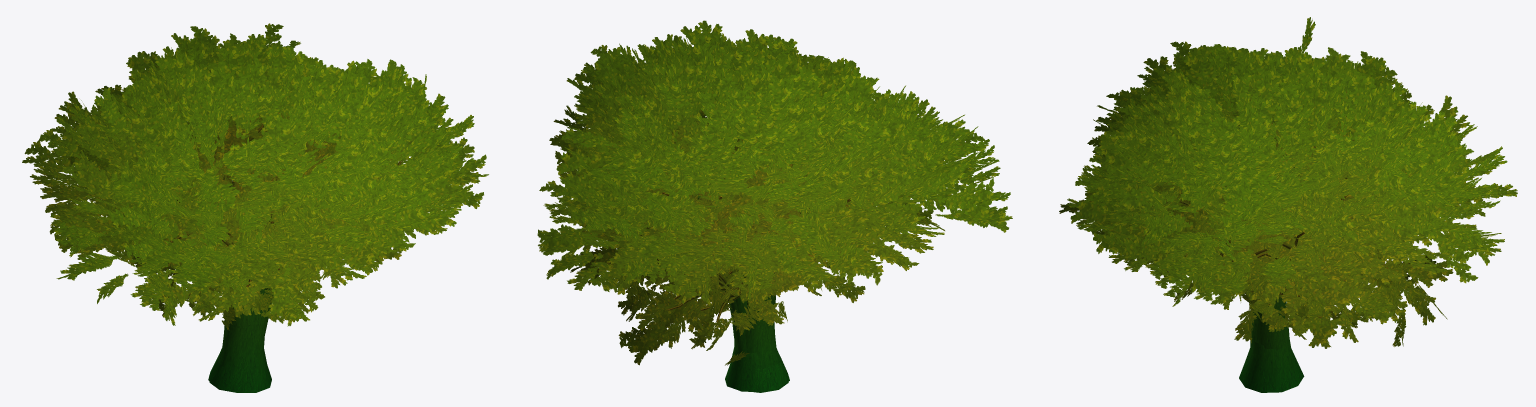
The model's file is dub.glb.
The picture shows the model from 3 angles, left to right: view 1: azimuth 30°, elevation 25°; view 2: azimuth 150°, elevation 25°; view 3: azimuth 270°, elevation 25°; orthographic projection. The views are drawn at different scales.
Parts seen in each view (by area): view 1: dub_01_LOD0, dub_03_LOD0, dub_02_LOD0; view 2: dub_01_LOD0, dub_03_LOD0, dub_02_LOD0; view 3: dub_03_LOD0, dub_01_LOD0, dub_02_LOD0.
Part boxes in pixels (x1,y1,x2,y2): dub_01_LOD0: (22,26,460,392); dub_03_LOD0: (72,34,488,382); dub_02_LOD0: (70,23,460,392); dub_01_LOD0: (537,38,1012,392); dub_03_LOD0: (538,20,977,392); dub_02_LOD0: (561,31,969,391); dub_03_LOD0: (1066,48,1501,351); dub_01_LOD0: (1059,17,1517,346); dub_02_LOD0: (1084,48,1465,392).
Size of what is drawn, in the model's own units: 18.63 by 12.88 by 17.38.
Materials: 2 (2 with a texture image).
